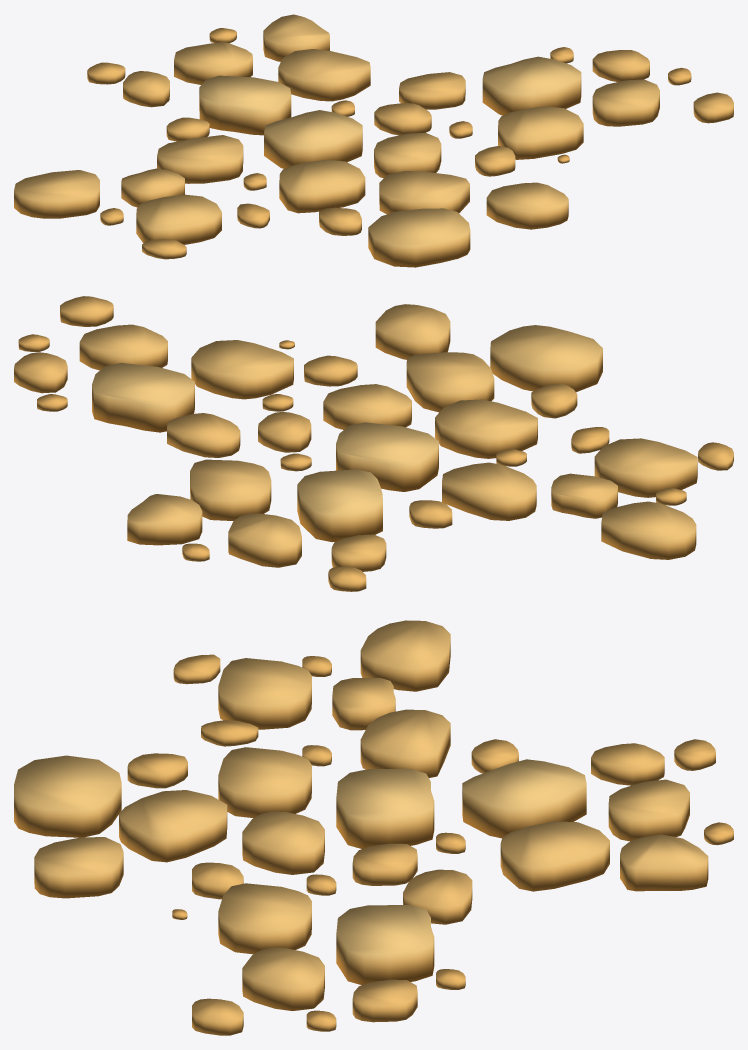
Rendered from obj_PathCrossSand.fbx.
3 views of the same model, one above another, from view 1: azimuth 30°, elevation 25°; view 2: azimuth 150°, elevation 25°; view 3: azimuth 270°, elevation 25° (orthographic). The views are drawn at different scales.
Parts seen in each view (by area): view 1: obj_PathCrossSand; view 2: obj_PathCrossSand; view 3: obj_PathCrossSand.
Part boxes in pixels (x1=…): obj_PathCrossSand: x1=14, y1=14, x2=733, y2=267; obj_PathCrossSand: x1=14, y1=296, x2=733, y2=591; obj_PathCrossSand: x1=14, y1=620, x2=733, y2=1035.
Bounding box in the file's own units: 2362 × 94.2 × 1810.
